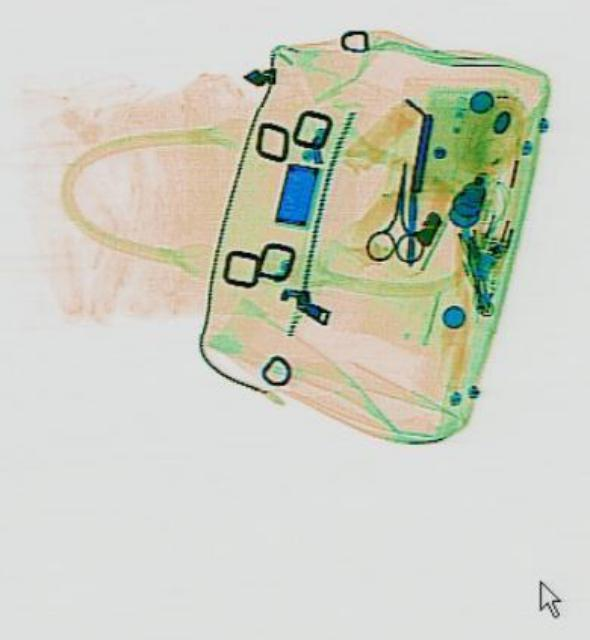Scissors: (361, 157, 432, 263)
